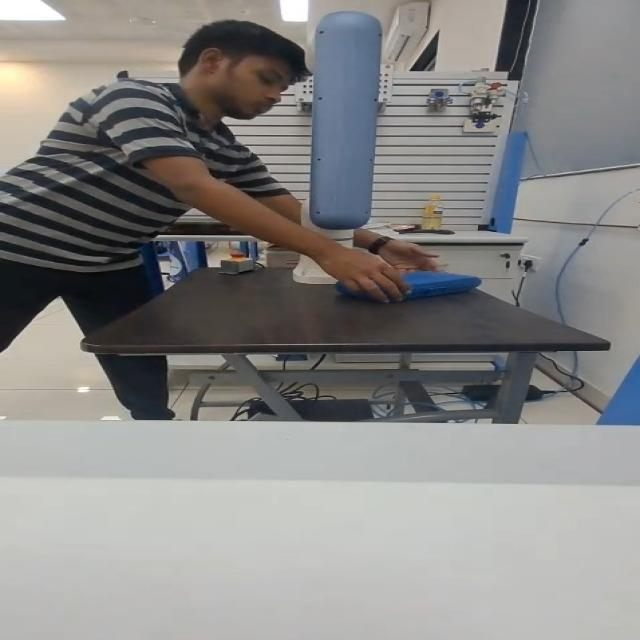top-surface: (351, 272, 469, 286)
